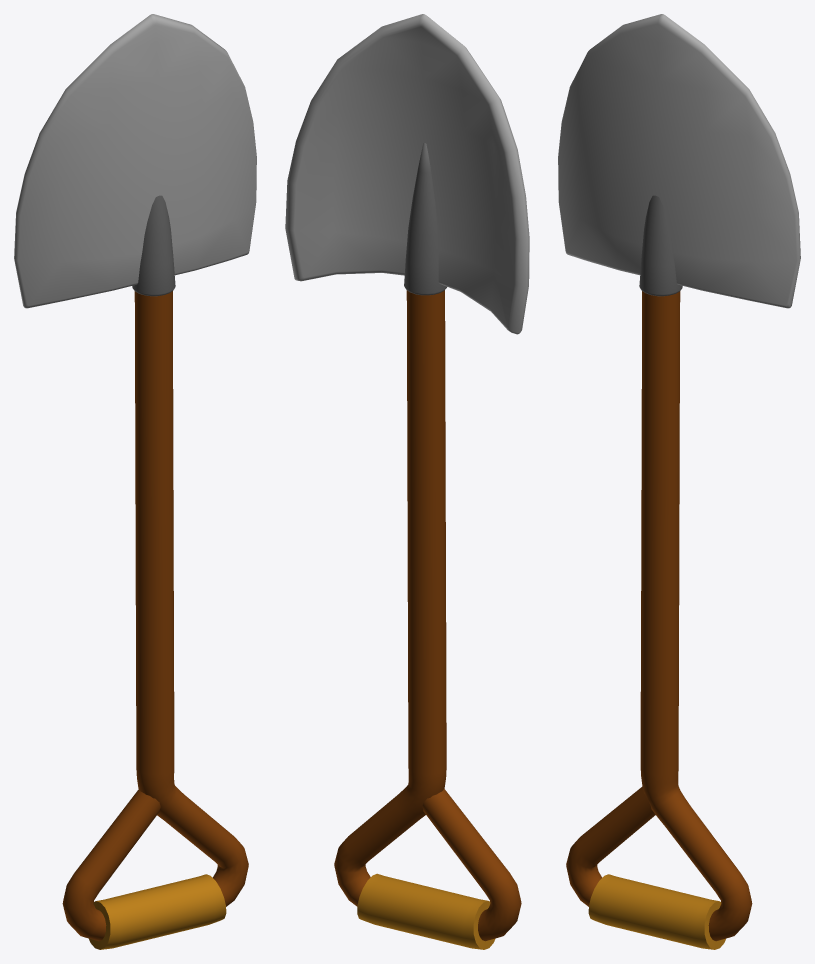
Rendered from Shovel.fbx.
3 renders of one model, left to right at view 1: azimuth 30°, elevation 25°; view 2: azimuth 150°, elevation 25°; view 3: azimuth 330°, elevation 25°, orthographic.
Visible parts, largest first — view 1: Shovel; view 2: Shovel; view 3: Shovel.
Part boxes in pixels (box(x1,y1,x2,y2)): Shovel: box(14, 14, 256, 949); Shovel: box(285, 14, 529, 949); Shovel: box(558, 14, 800, 949).
Size of the model in its own units: 40.43 by 10.55 by 147.
Materials: 1 (1 with a texture image).
